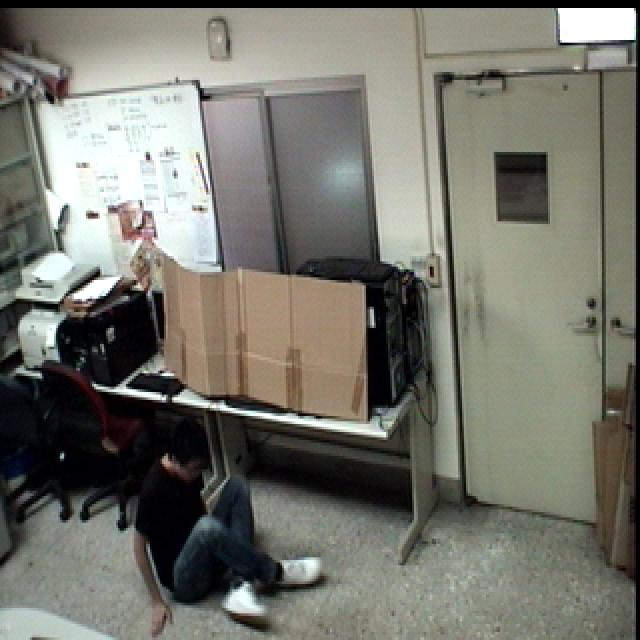sit: (125, 411, 328, 640)
